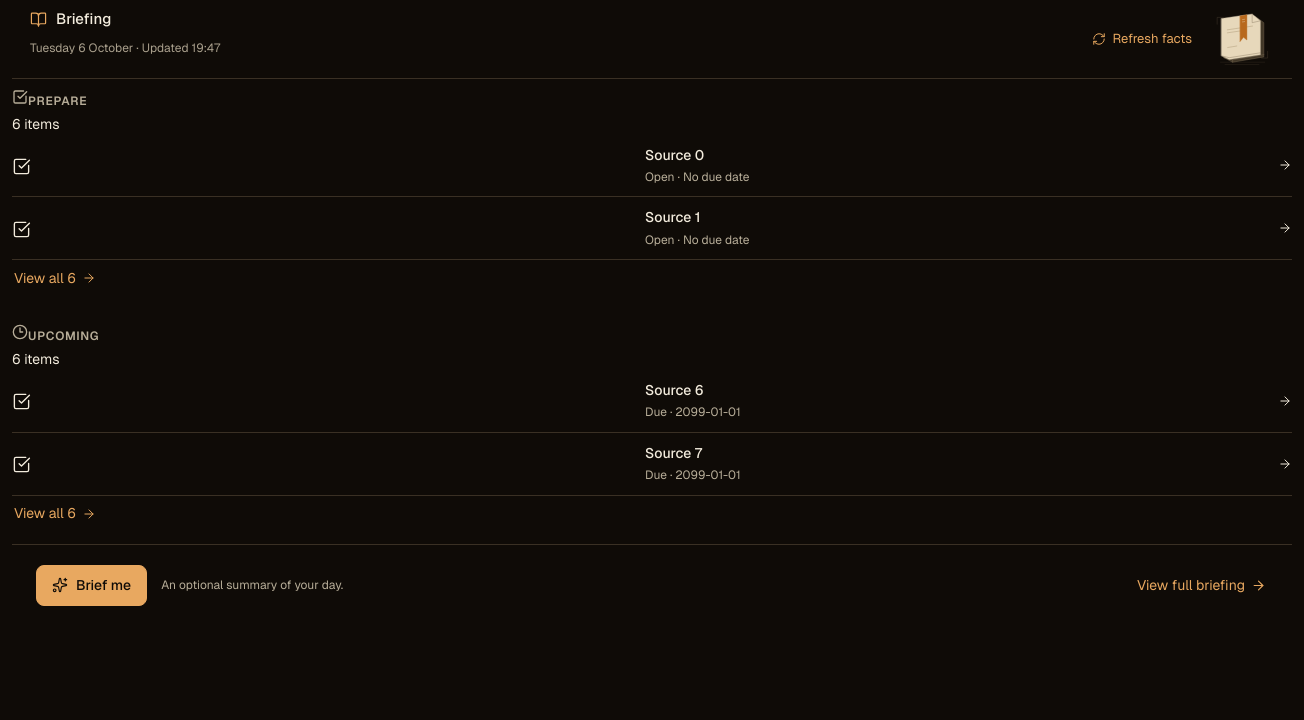
Scenario: keeps an eligible Brief me amber, blocks double clicks, and retains facts after synthesis failure
This screenshot has width=1304, height=720.
Check: the text "Source 0" is shown, box [645, 146, 704, 164]
Click the button "Brief me": click(92, 585) [36, 565, 147, 606]
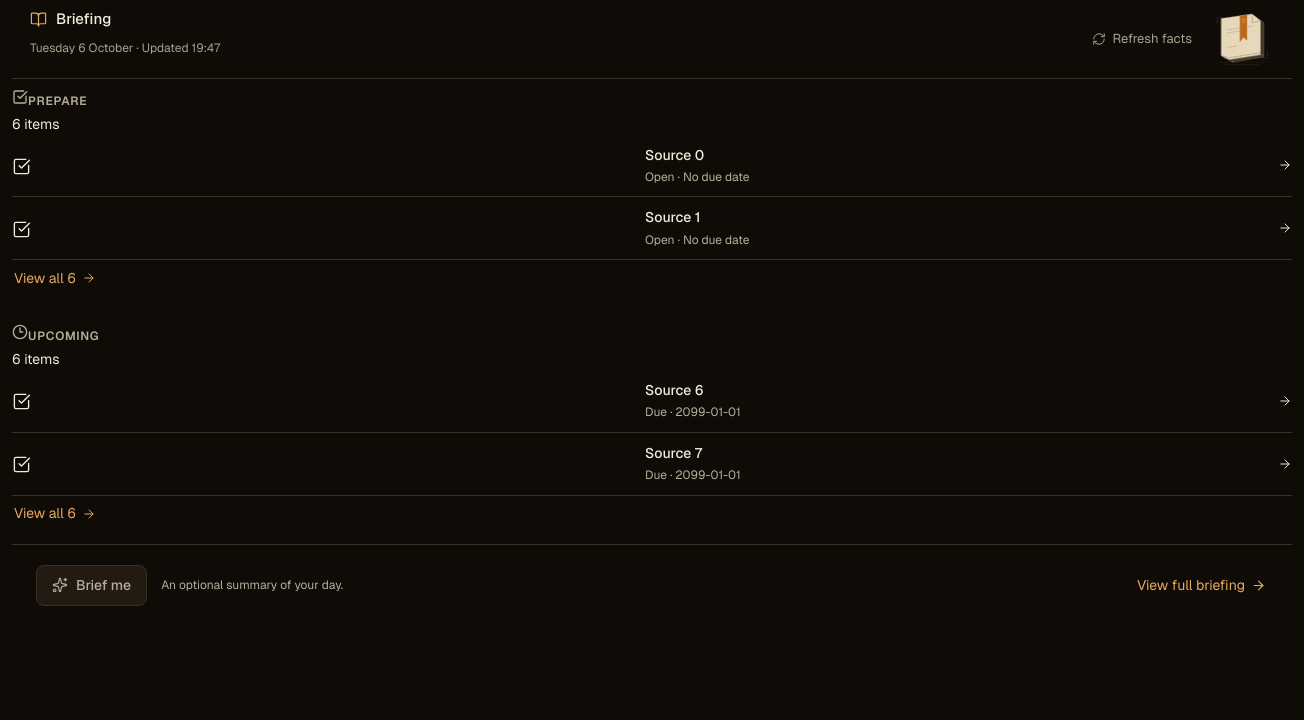
Click the button "Brief me": click(92, 585) [36, 565, 147, 606]
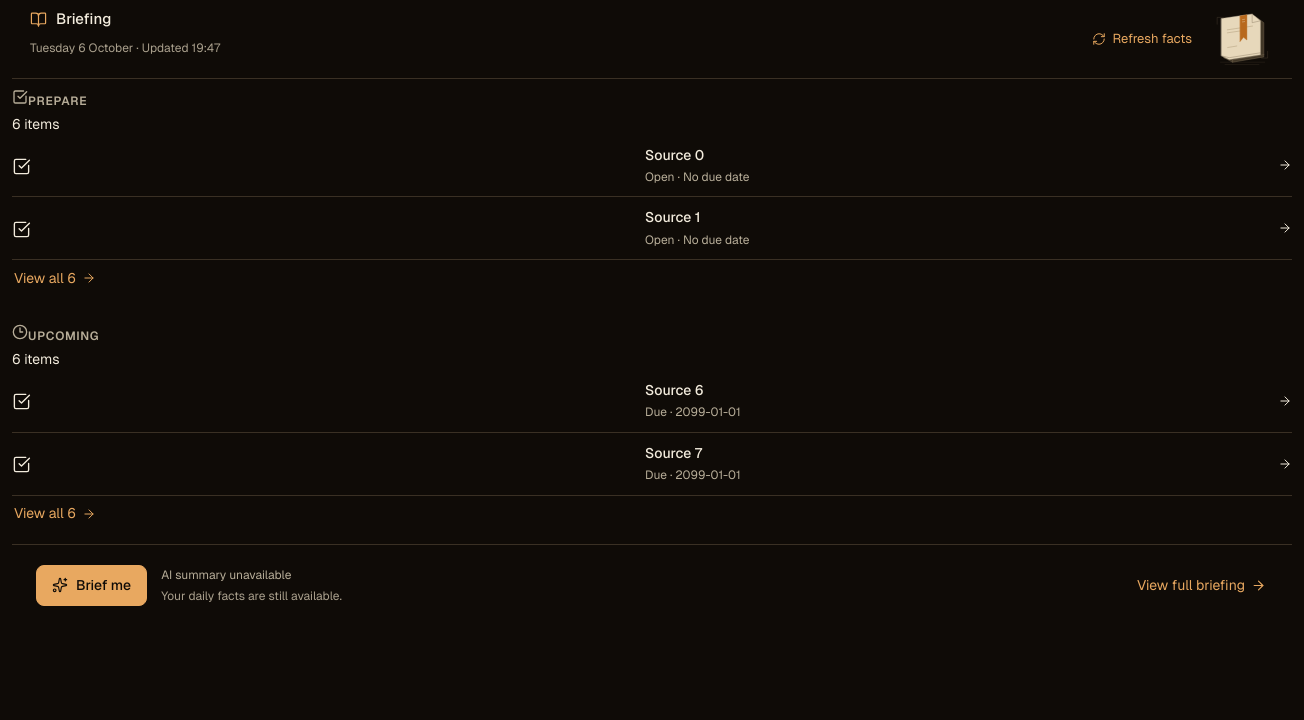
Check: the text "Source 0" is shown, box [645, 146, 704, 164]
Check: the text "AI summary unavailable" is shown, box [161, 566, 292, 584]
Check: the button "Brief me" is enabled, box [36, 565, 147, 606]
